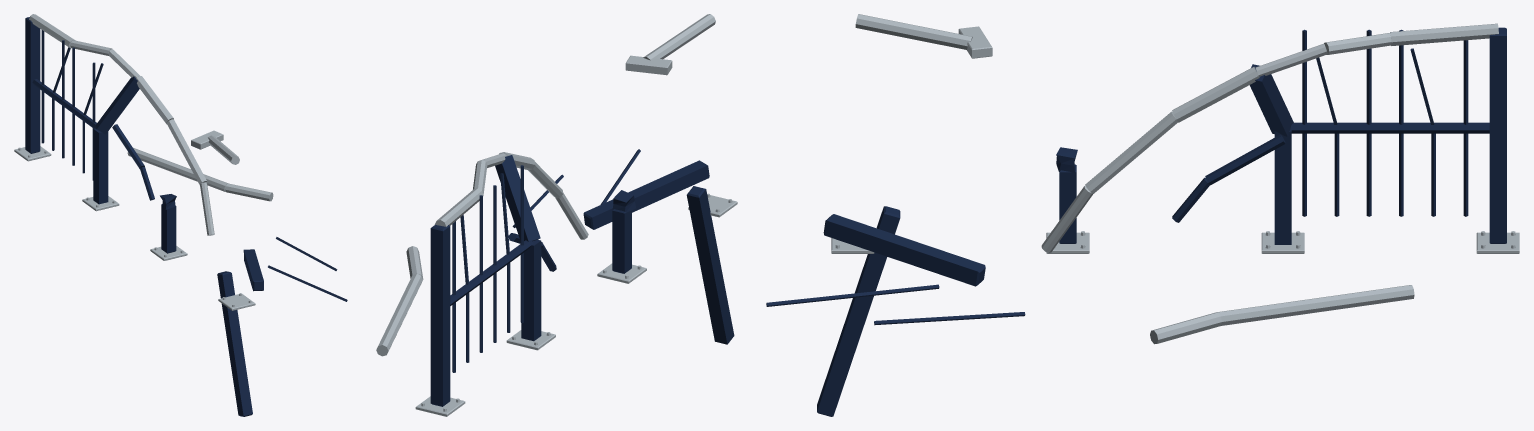
File: DESTROY_17.obj
3 views of the same model, side by side, from view 1: azimuth 30°, elevation 25°; view 2: azimuth 150°, elevation 25°; view 3: azimuth 270°, elevation 25° (orthographic). The views are drawn at different scales.
Visible parts, largest first — view 1: DESTROY_17__post_4_lean, DESTROY_17__post_1, DESTROY_17__post_2_bent, DESTROY_17__rail_top_2_hang, DESTROY_17__baluster, DESTROY_17__rail_detached, DESTROY_17__base_plate, DESTROY_17__rail_top_12, DESTROY_17__post_3_stub, DESTROY_17__baluster_bent, DESTROY_17__post_3_fallen, DESTROY_17__rail_mid_23_snapped (+4 smaller); view 2: DESTROY_17__post_1, DESTROY_17__post_2_bent, DESTROY_17__post_4_lean, DESTROY_17__baluster, DESTROY_17__post_3_fallen, DESTROY_17__base_plate, DESTROY_17__post_3_stub, DESTROY_17__rail_detached, DESTROY_17__rail_top_2_hang, DESTROY_17__rail_top_12, DESTROY_17__baluster_bent, DESTROY_17__rail_top_4_stub (+3 smaller); view 3: DESTROY_17__rail_detached, DESTROY_17__post_3_fallen, DESTROY_17__post_1, DESTROY_17__post_4_lean, DESTROY_17__rail_top_2_hang, DESTROY_17__baluster, DESTROY_17__post_2_bent, DESTROY_17__rail_top_12, DESTROY_17__base_plate, DESTROY_17__rail_mid_12, DESTROY_17__rail_top_4_stub, DESTROY_17__baluster_fallen (+4 smaller).
Part boxes in pixels (x1,y1,x2,y2): DESTROY_17__post_4_lean: [217, 271, 252, 416]; DESTROY_17__post_1: [25, 17, 40, 153]; DESTROY_17__post_2_bent: [93, 76, 139, 204]; DESTROY_17__rail_top_2_hang: [136, 76, 214, 235]; DESTROY_17__baluster: [41, 30, 95, 180]; DESTROY_17__rail_detached: [127, 147, 273, 201]; DESTROY_17__base_plate: [14, 146, 255, 310]; DESTROY_17__rail_top_12: [29, 14, 139, 78]; DESTROY_17__post_3_stub: [160, 194, 176, 253]; DESTROY_17__baluster_bent: [52, 47, 103, 173]; DESTROY_17__post_3_fallen: [243, 249, 263, 291]; DESTROY_17__rail_mid_23_snapped: [112, 124, 154, 200]; DESTROY_17__post_1: [430, 225, 450, 406]; DESTROY_17__post_2_bent: [495, 155, 541, 341]; DESTROY_17__post_4_lean: [686, 186, 734, 344]; DESTROY_17__baluster: [452, 165, 523, 372]; DESTROY_17__post_3_fallen: [583, 160, 709, 229]; DESTROY_17__base_plate: [415, 193, 737, 416]; DESTROY_17__post_3_stub: [612, 190, 635, 273]; DESTROY_17__rail_detached: [376, 246, 423, 356]; DESTROY_17__rail_top_2_hang: [499, 152, 588, 239]; DESTROY_17__rail_top_12: [434, 153, 506, 226]; DESTROY_17__baluster_bent: [460, 173, 510, 362]; DESTROY_17__rail_top_4_stub: [643, 14, 715, 60]; DESTROY_17__rail_detached: [1150, 285, 1414, 344]; DESTROY_17__post_3_fallen: [823, 214, 985, 286]; DESTROY_17__post_1: [1489, 27, 1506, 243]; DESTROY_17__post_4_lean: [817, 206, 900, 416]; DESTROY_17__rail_top_2_hang: [1041, 67, 1259, 252]; DESTROY_17__baluster: [1302, 29, 1468, 216]; DESTROY_17__post_2_bent: [1249, 64, 1293, 244]; DESTROY_17__rail_top_12: [1255, 23, 1498, 76]; DESTROY_17__base_plate: [831, 231, 1519, 253]; DESTROY_17__rail_mid_12: [1290, 122, 1489, 133]; DESTROY_17__rail_top_4_stub: [855, 14, 972, 49]; DESTROY_17__baluster_fallen: [766, 284, 1025, 325].
Size of the model in its own units: 1.23 by 2.05 by 3.5.
